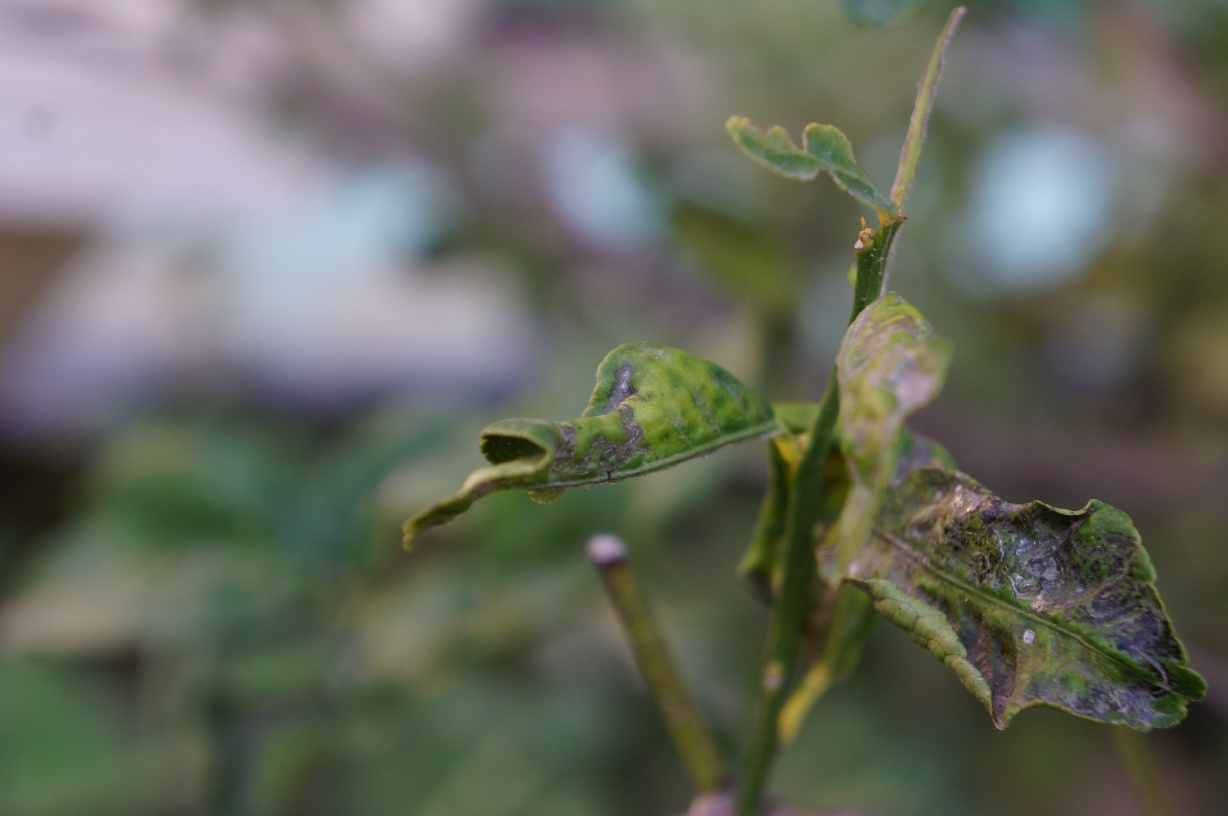curly: (386, 330, 788, 567)
damage: (809, 455, 1212, 744)
